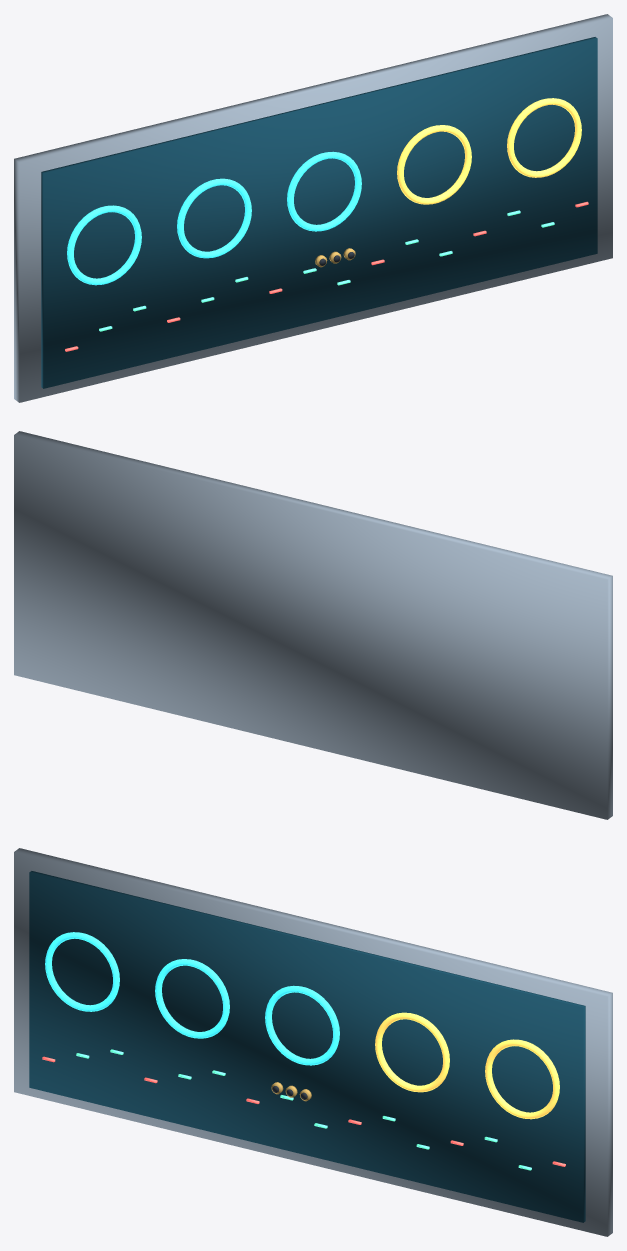
Rendered from 82_L89_RadiationDefenseSCADA.glb.
3 renders of one model, top to bottom at view 1: azimuth 30°, elevation 25°; view 2: azimuth 150°, elevation 25°; view 3: azimuth 330°, elevation 25°, orthographic.
Visible parts, largest first — view 1: L87_RadiationDefenseSCADA_Part_0001, L87_RadiationDefenseSCADA_Part_0000, L87_RadiationDefenseSCADA_Part_0002, L87_RadiationDefenseSCADA_Part_0003, L87_RadiationDefenseSCADA_Part_0005; view 2: L87_RadiationDefenseSCADA_Part_0000; view 3: L87_RadiationDefenseSCADA_Part_0001, L87_RadiationDefenseSCADA_Part_0000, L87_RadiationDefenseSCADA_Part_0002, L87_RadiationDefenseSCADA_Part_0003, L87_RadiationDefenseSCADA_Part_0005.
Boxes of the visible parts, bbox=[...] form: L87_RadiationDefenseSCADA_Part_0001: bbox=[41, 37, 597, 388]; L87_RadiationDefenseSCADA_Part_0000: bbox=[14, 14, 612, 402]; L87_RadiationDefenseSCADA_Part_0002: bbox=[67, 151, 361, 285]; L87_RadiationDefenseSCADA_Part_0003: bbox=[397, 98, 581, 204]; L87_RadiationDefenseSCADA_Part_0005: bbox=[99, 210, 554, 331]; L87_RadiationDefenseSCADA_Part_0000: bbox=[14, 431, 612, 819]; L87_RadiationDefenseSCADA_Part_0001: bbox=[29, 871, 585, 1222]; L87_RadiationDefenseSCADA_Part_0000: bbox=[14, 848, 612, 1236]; L87_RadiationDefenseSCADA_Part_0002: bbox=[45, 932, 339, 1065]; L87_RadiationDefenseSCADA_Part_0003: bbox=[375, 1012, 559, 1119]; L87_RadiationDefenseSCADA_Part_0005: bbox=[76, 1049, 531, 1170].
Size of the model in its own units: 7.5 by 2.9 by 0.582.
